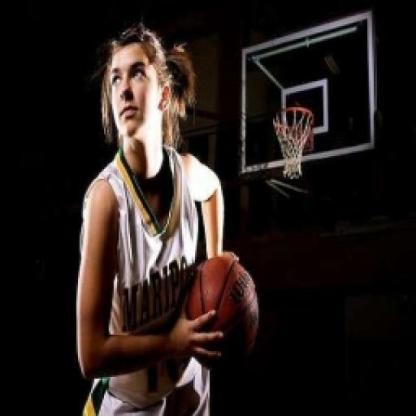basketball: (186, 251, 257, 353)
